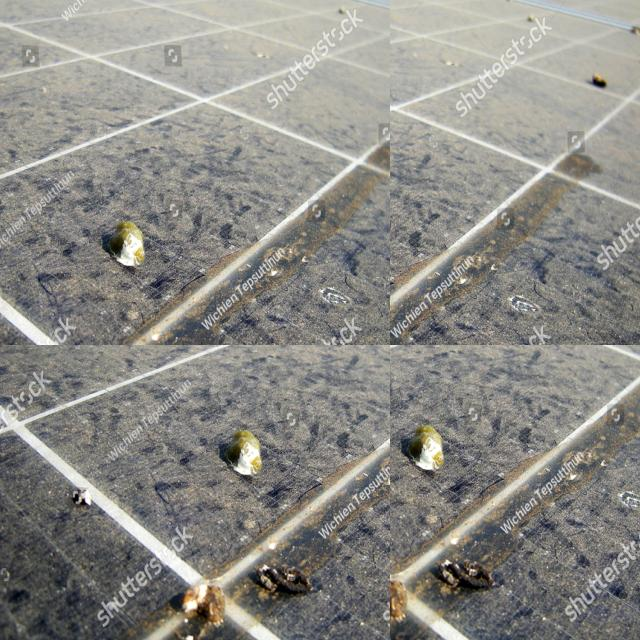bird: (428, 527, 507, 599), (399, 402, 449, 477), (390, 547, 417, 636), (110, 345, 170, 373), (390, 477, 415, 515), (0, 345, 27, 375), (4, 345, 46, 364), (55, 345, 103, 361), (59, 345, 81, 374), (116, 345, 147, 365), (123, 345, 156, 362), (23, 350, 53, 368), (53, 345, 83, 362), (85, 345, 113, 363), (16, 345, 48, 360), (134, 345, 162, 361), (0, 345, 16, 373), (47, 345, 73, 361), (88, 345, 116, 357), (150, 345, 172, 358), (97, 345, 118, 358), (0, 345, 20, 357), (0, 345, 11, 358)
dust: (175, 102, 383, 345), (0, 84, 154, 252), (0, 214, 56, 345)
shadow: (390, 0, 417, 55), (390, 104, 426, 134)
